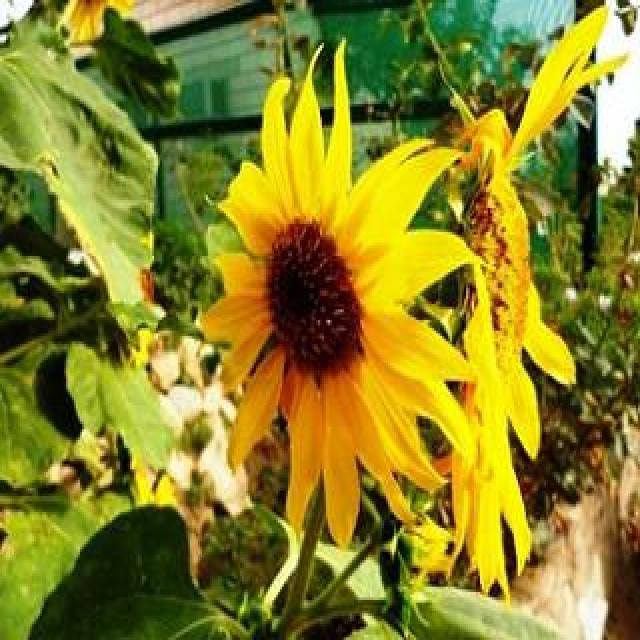sunflower: (200, 39, 487, 548), (452, 6, 628, 606)
